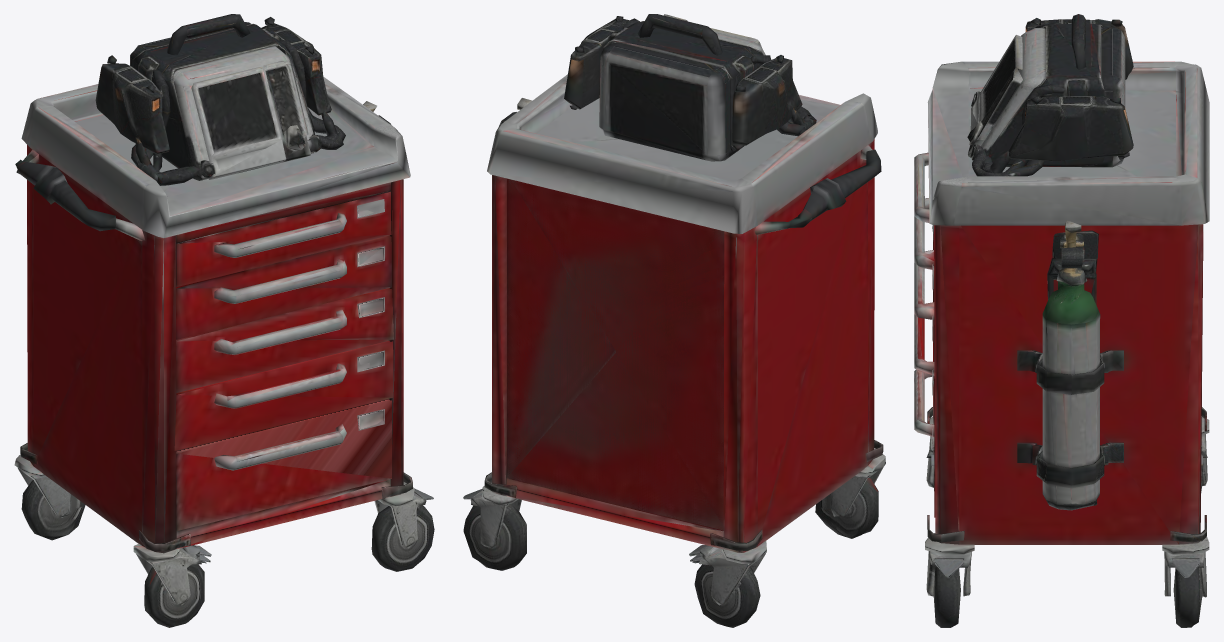
File: p7-crash-cart-t25.glb
3 views of the same model, side by side, from view 1: azimuth 30°, elevation 25°; view 2: azimuth 150°, elevation 25°; view 3: azimuth 270°, elevation 25° (orthographic).
Visible parts, largest first — view 1: p7-crash-cart-t25; view 2: p7-crash-cart-t25; view 3: p7-crash-cart-t25.
Part boxes in pixels (bbox=[...]): p7-crash-cart-t25: bbox=[14, 14, 434, 627]; p7-crash-cart-t25: bbox=[463, 14, 885, 627]; p7-crash-cart-t25: bbox=[914, 14, 1209, 627].
Size of the model in its own units: 0.75 by 1.1 by 0.55.
Materials: 1 (1 with a texture image).
